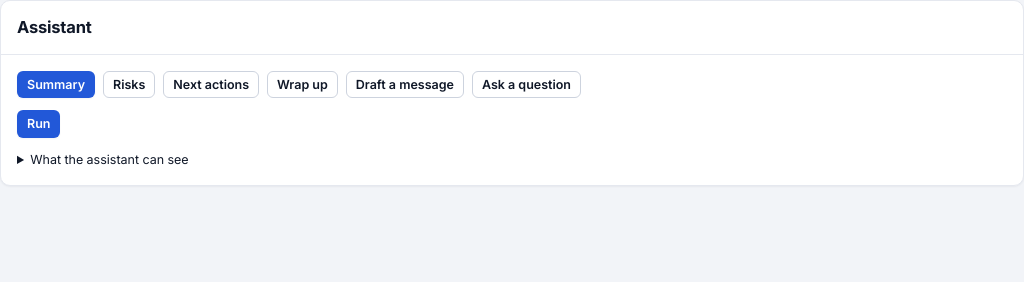
Test: AssistPanel › requires a question before asking
The width and height of the screenshot is (1024, 282).
Click the button "Ask a question".
click(526, 84)  # box [472,71,581,98]
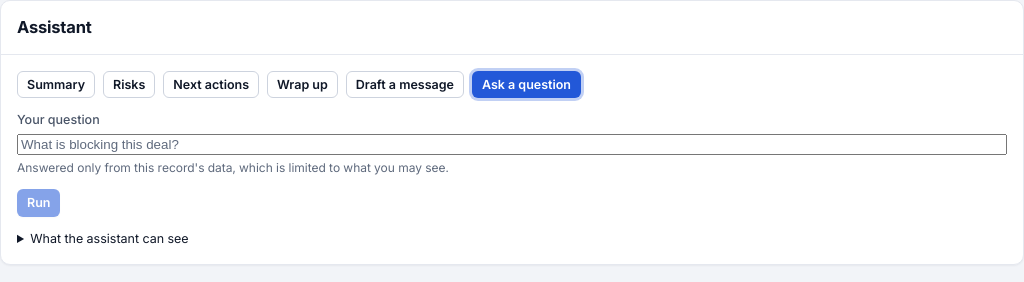
Check: the button "Run" is disabled, box [17,189,60,217]
Type "What is blocking this?" into the field labelled "Your question".
click(512, 144); type("What is blocking this?")  # box [17,134,1007,154]
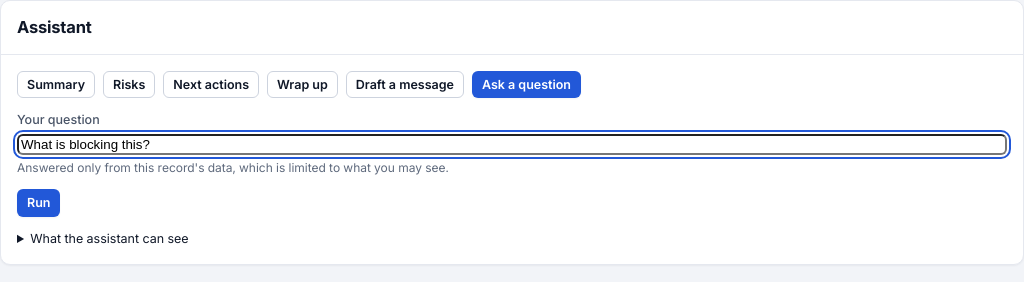
Check: the button "Run" is enabled, box [17,189,60,217]
